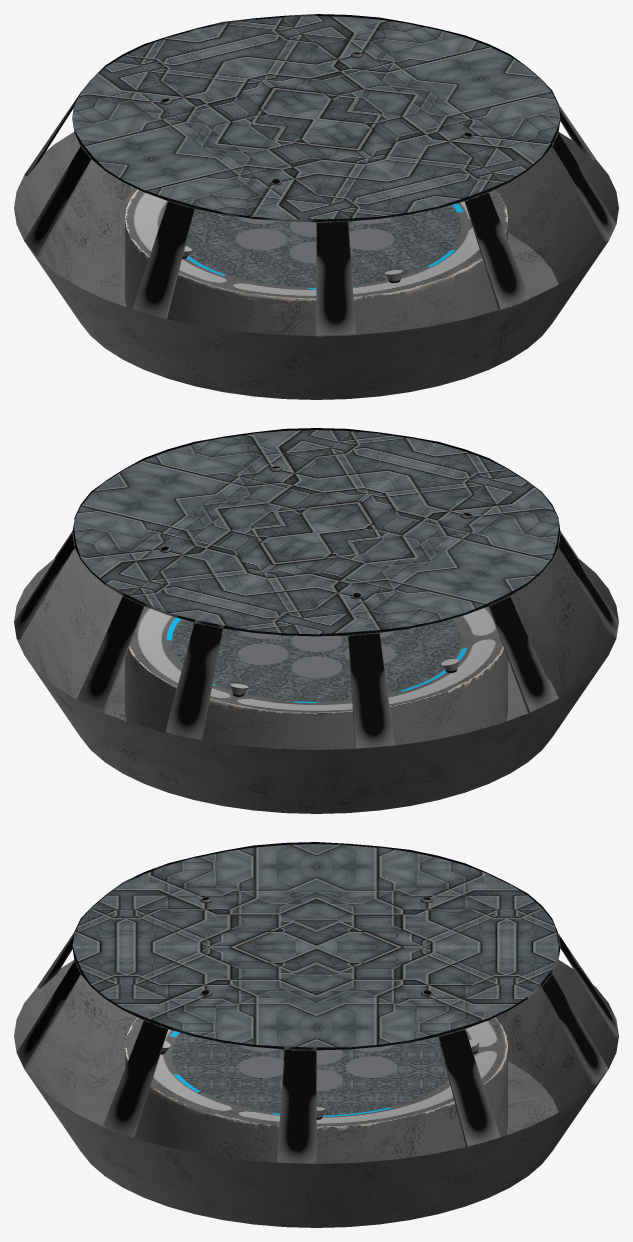
File: stadium_1.fbx
3 views of the same model, one above another, from view 1: azimuth 30°, elevation 25°; view 2: azimuth 150°, elevation 25°; view 3: azimuth 270°, elevation 25° (orthographic).
Parts seen in each view (by area): view 1: Spot, Ground, Lights_group2_pCylinder2; view 2: Spot, Ground, Lights_group2_pCylinder2; view 3: Spot, Ground, Lights_group2_pCylinder2.
Boxes of the visible parts, x1=… form: Spot: x1=24, y1=14, x2=616, y2=335; Ground: x1=14, y1=132, x2=618, y2=399; Lights_group2_pCylinder2: x1=160, y1=52, x2=473, y2=282; Spot: x1=14, y1=428, x2=618, y2=748; Ground: x1=14, y1=548, x2=618, y2=813; Lights_group2_pCylinder2: x1=159, y1=466, x2=472, y2=696; Spot: x1=16, y1=842, x2=618, y2=1163; Ground: x1=14, y1=960, x2=618, y2=1227; Lights_group2_pCylinder2: x1=160, y1=897, x2=479, y2=1119.
Size of the model in its own units: 51.85 by 51.85 by 17.06.
Materials: 2 (2 with a texture image).
